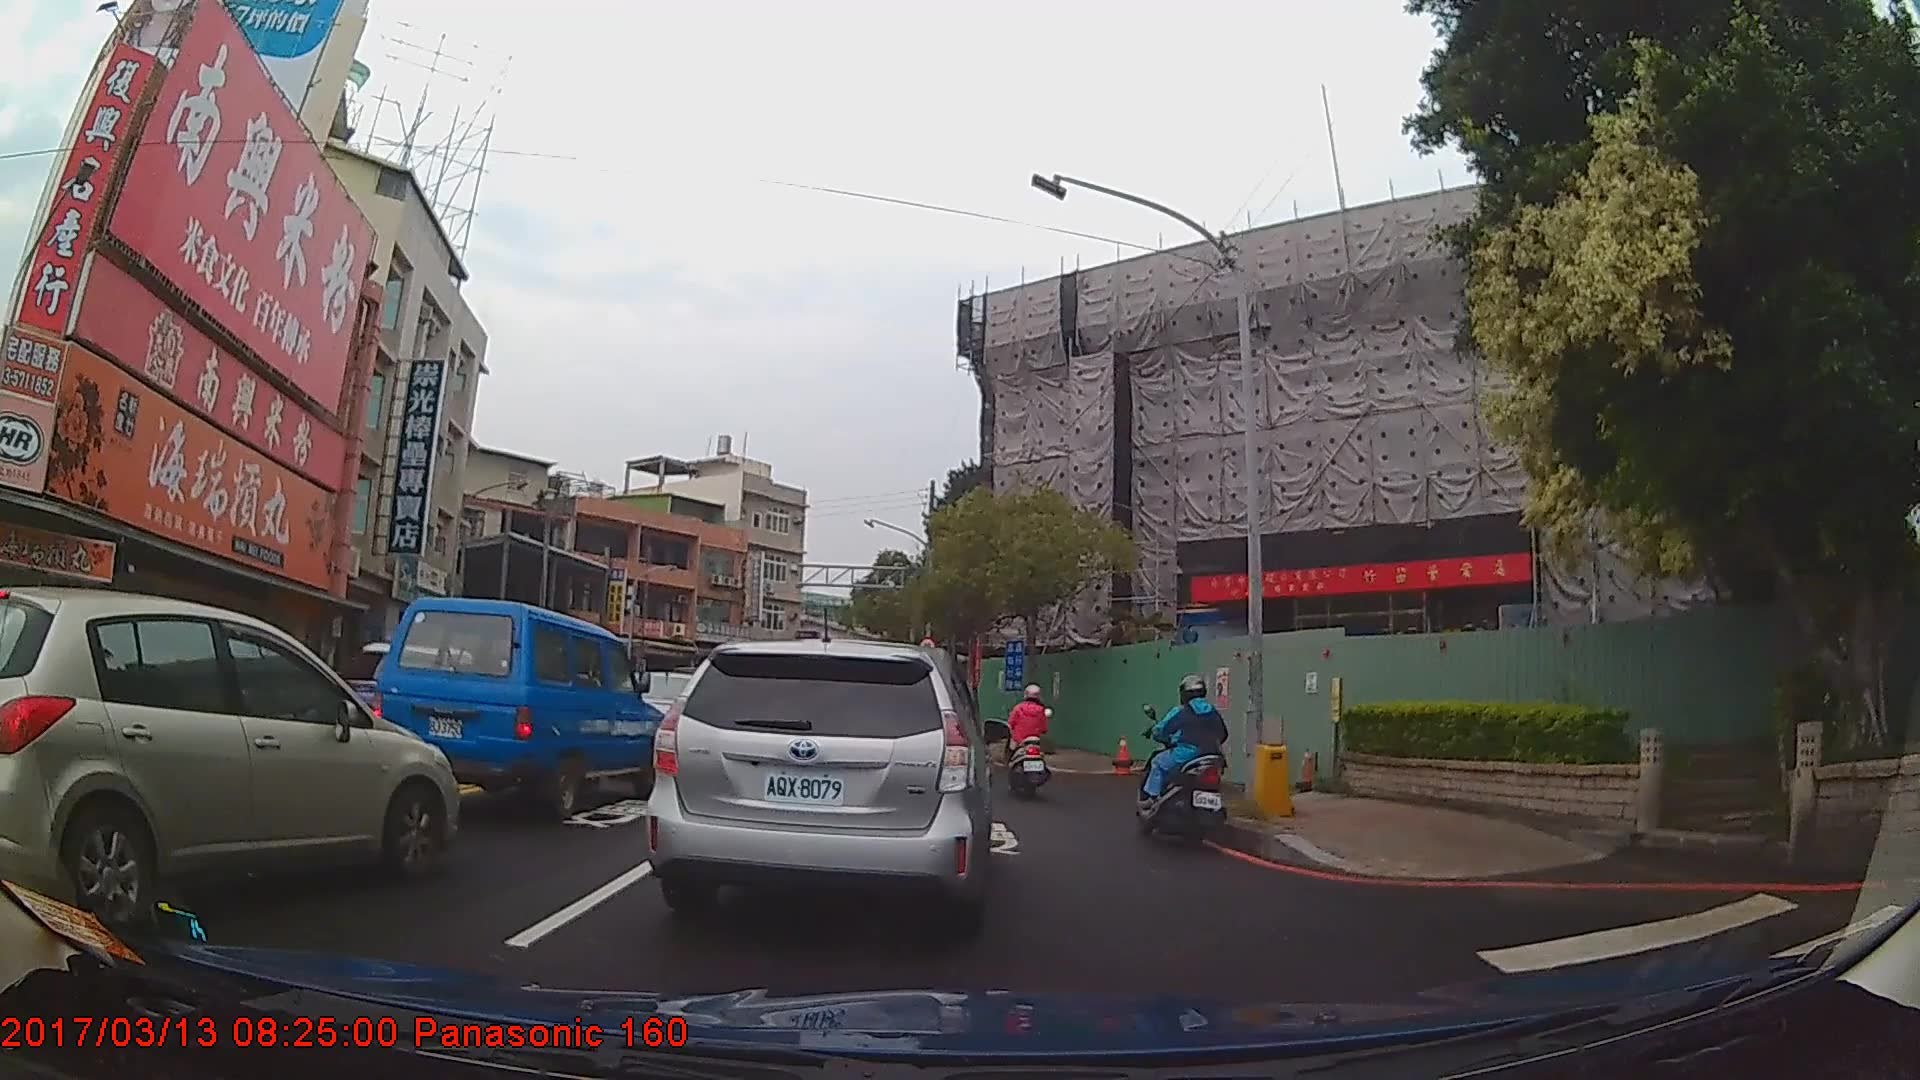rider: (1143, 676, 1236, 851), (1002, 685, 1057, 797)
vehicle: (0, 584, 460, 939), (641, 635, 996, 941), (370, 595, 664, 819)
